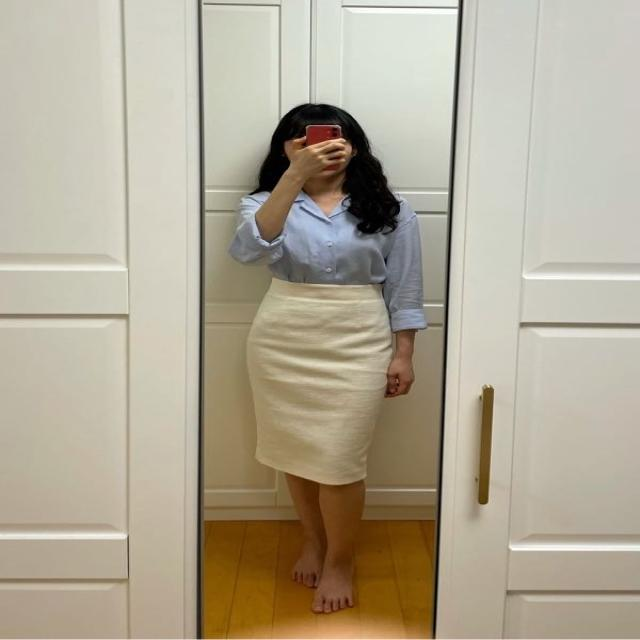shirt: (228, 189, 424, 336)
skirt: (244, 276, 394, 487)
